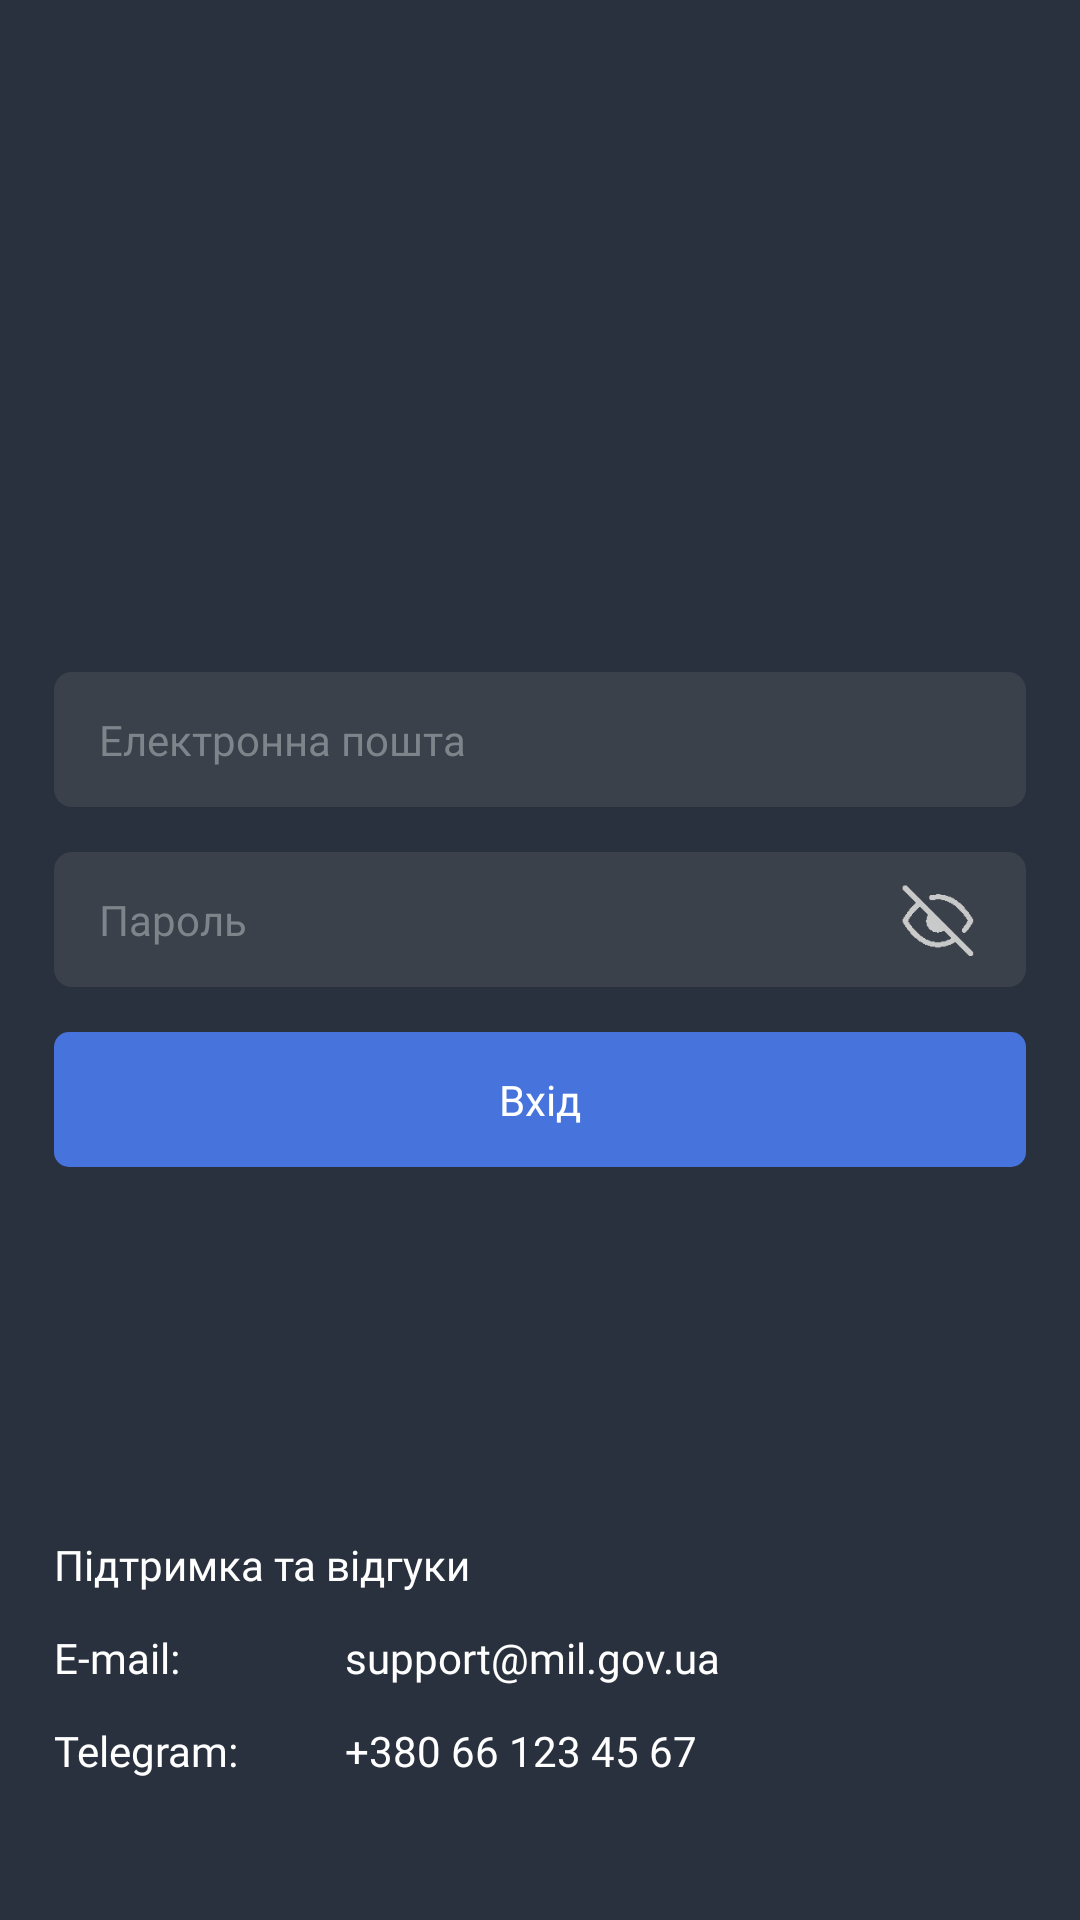

Screen size 1080*1920. Icon name, then its box in pixels as (x1, y1, x2, y2):
unvisible password: (902, 885, 973, 956)
